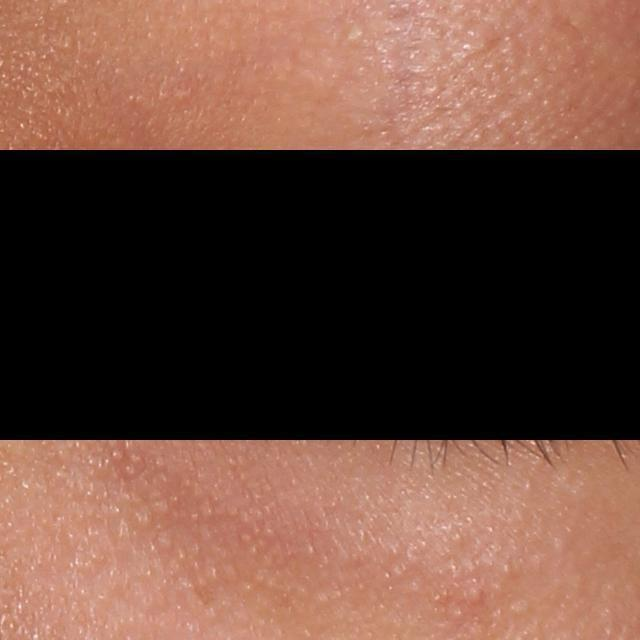comedo: (467, 584, 488, 606)
